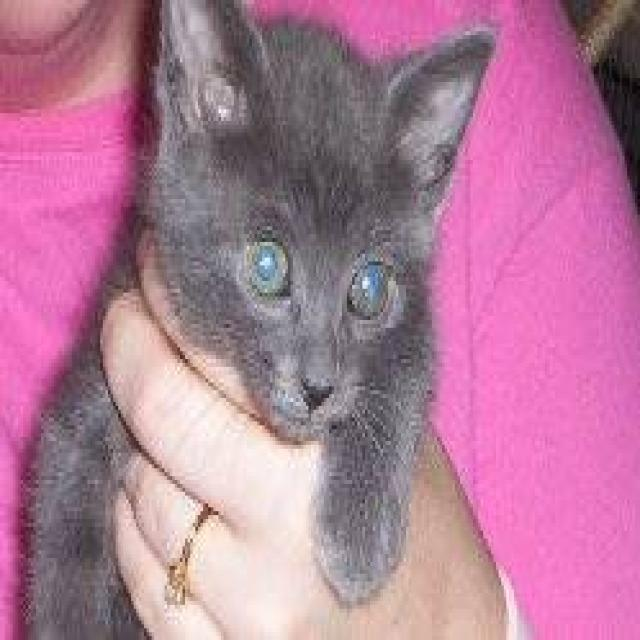cat: (21, 0, 496, 636)
